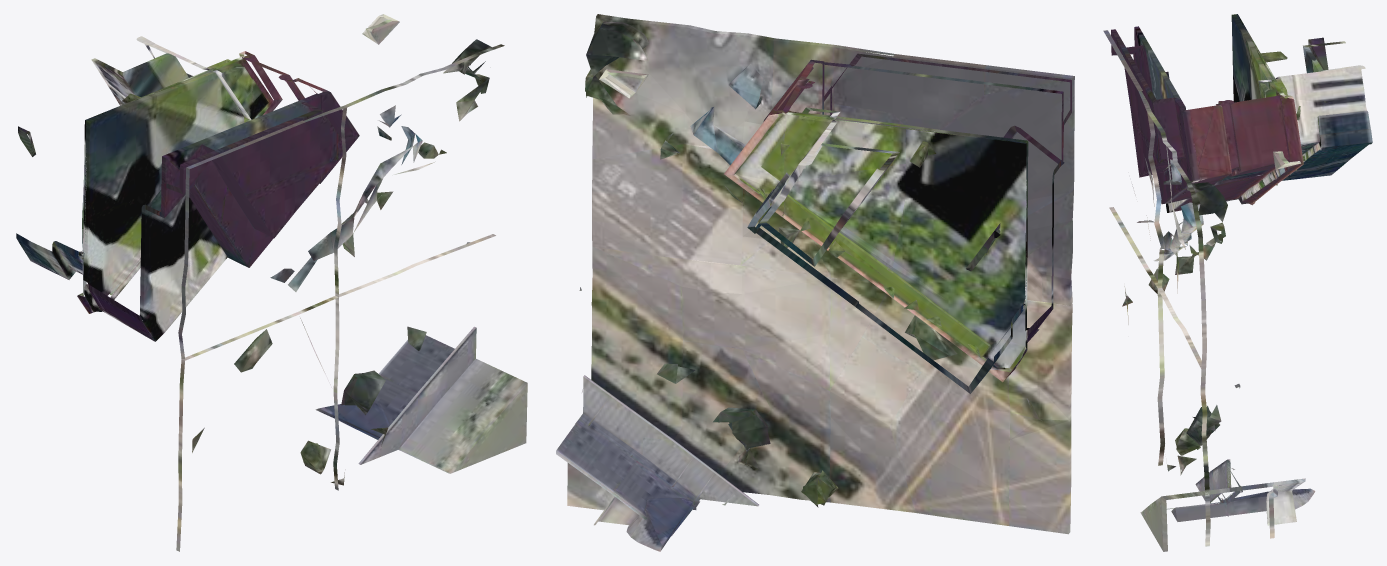
File: tile_078.glb
The picture shows the model from 3 angles, left to right: view 1: azimuth 30°, elevation 25°; view 2: azimuth 150°, elevation 25°; view 3: azimuth 270°, elevation 25°; orthographic projection. The views are drawn at different scales.
Bounding box in the file's own units: 87.39 × 78.28 × 52.26.
Materials: 2 (2 with a texture image).
